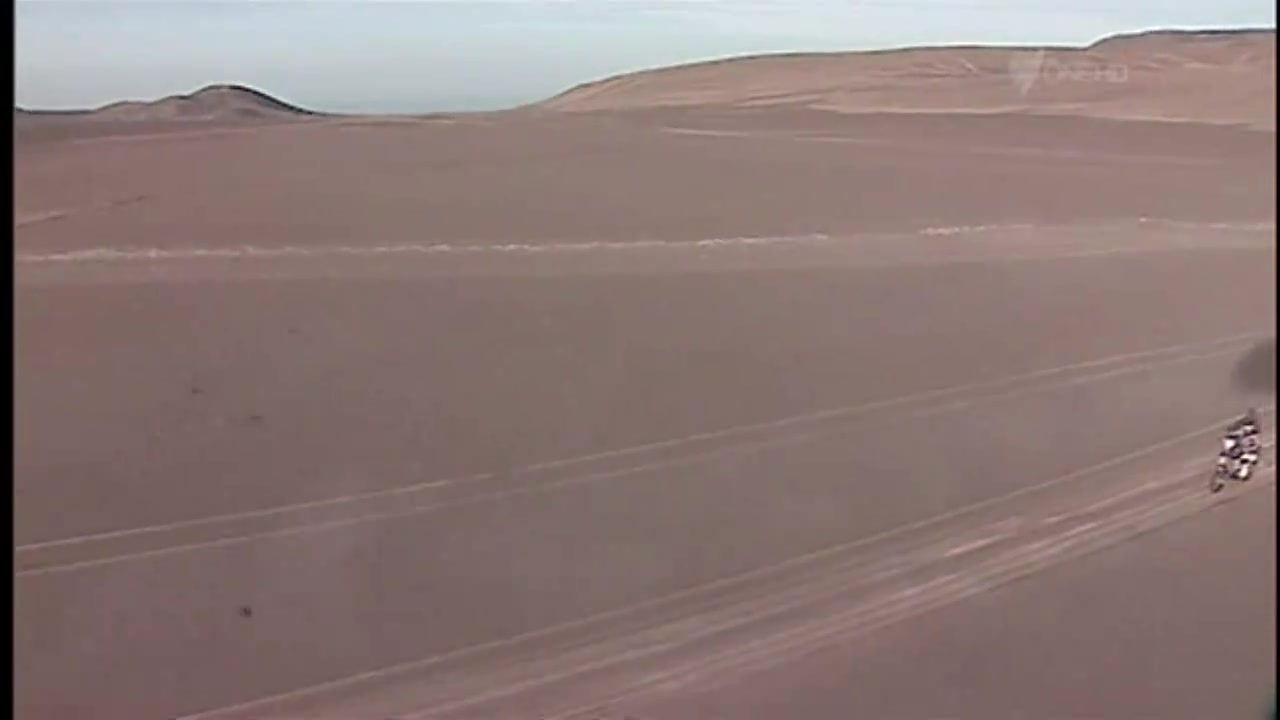motorbike: (1206, 424, 1263, 499)
